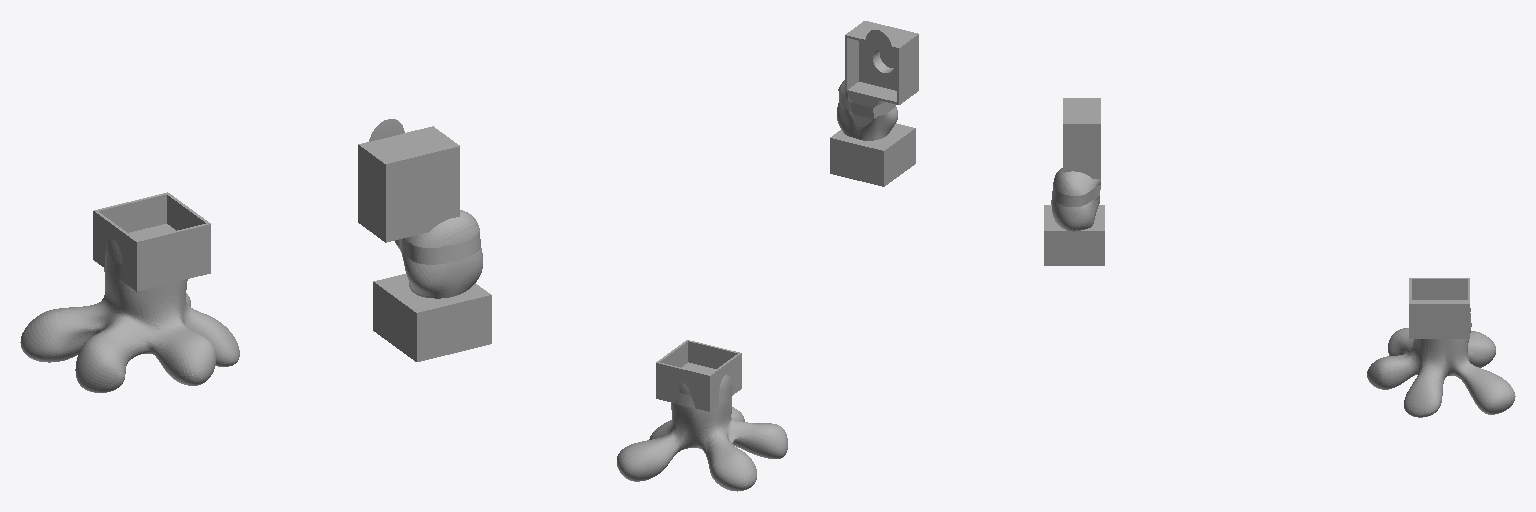
The robot description file, URDF, robot "FrogBot5_top-FrogBot5-x-2_bottom-FrogBot5-x-2":
<?xml version="1.0" ?>
<robot name="FrogBot5_top-FrogBot5-x-2_bottom-FrogBot5-x-2">

<material name="pla_5_percent_infill">
  <color rgba="0.700 0.700 0.700 1.000"/>
</material>

<link name="base_link">
  <inertial>
    <origin xyz="0 0 0" rpy="0 0 0"/>
    <mass value="1.4805118043364613"/>
    <inertia ixx="0.00519778244400068" iyy="0.011185972187213383" izz="0.012581059264896973" ixy="-0.0002102027550041139" iyz="-1.09064860282594e-05" ixz="-0.0008439426245005397"/>
  </inertial>
  <visual>
    <origin xyz="0 0 0" rpy="0 0 0"/>
    <geometry>
      <mesh filename="simple_meshes/base_link.stl" scale="0.001 0.001 0.001"/>
    </geometry>
    <material name="pla_5_percent_infill"/>
  </visual>
  <collision>
    <origin xyz="0 0 0" rpy="0 0 0"/>
    <geometry>
      <mesh filename="simple_meshes/base_link.stl" scale="0.001 0.001 0.001"/>
    </geometry>
  </collision>
</link>

<link name="body_1_0_1">
  <inertial>
    <origin xyz="-0.05492 -0.106321 -0.011198" rpy="0 0 0"/>
    <mass value="0.03190893016003801"/>
    <inertia ixx="2.4429898942020614e-05" iyy="2.7275982920612618e-05" izz="1.1434922102886071e-05" ixy="-8.511222338172071e-08" iyz="-1.420432485083929e-06" ixz="-8.68195859637681e-07"/>
  </inertial>
  <visual>
    <origin xyz="-0.05492 -0.106321 -0.011198" rpy="0 0 0"/>
    <geometry>
      <mesh filename="simple_meshes/body_1_0_1.stl" scale="0.001 0.001 0.001"/>
    </geometry>
    <material name="pla_5_percent_infill"/>
  </visual>
  <collision>
    <origin xyz="-0.05492 -0.106321 -0.011198" rpy="0 0 0"/>
    <geometry>
      <mesh filename="simple_meshes/body_1_0_1.stl" scale="0.001 0.001 0.001"/>
    </geometry>
  </collision>
</link>

<link name="body_1_1_1">
  <inertial>
    <origin xyz="0.058377 -0.106321 -0.025493" rpy="0 0 0"/>
    <mass value="0.052491266005535574"/>
    <inertia ixx="4.8257280305906425e-05" iyy="6.954699838675188e-05" izz="3.656339945115128e-05" ixy="-1.7908794482598706e-06" iyz="-7.955847608754994e-07" ixz="-2.2356305458316844e-05"/>
  </inertial>
  <visual>
    <origin xyz="0.058377 -0.106321 -0.025493" rpy="0 0 0"/>
    <geometry>
      <mesh filename="simple_meshes/body_1_1_1.stl" scale="0.001 0.001 0.001"/>
    </geometry>
    <material name="pla_5_percent_infill"/>
  </visual>
  <collision>
    <origin xyz="0.058377 -0.106321 -0.025493" rpy="0 0 0"/>
    <geometry>
      <mesh filename="simple_meshes/body_1_1_1.stl" scale="0.001 0.001 0.001"/>
    </geometry>
  </collision>
</link>

<link name="body_1_2_1">
  <inertial>
    <origin xyz="-0.053934 0.106321 -0.032331" rpy="0 0 0"/>
    <mass value="0.04528282570788592"/>
    <inertia ixx="4.6550121856413e-05" iyy="5.193071462967827e-05" izz="1.6522551288097355e-05" ixy="8.270233758516125e-08" iyz="-1.1493234214251516e-08" ixz="6.384866717018934e-06"/>
  </inertial>
  <visual>
    <origin xyz="-0.053934 0.106321 -0.032331" rpy="0 0 0"/>
    <geometry>
      <mesh filename="simple_meshes/body_1_2_1.stl" scale="0.001 0.001 0.001"/>
    </geometry>
    <material name="pla_5_percent_infill"/>
  </visual>
  <collision>
    <origin xyz="-0.053934 0.106321 -0.032331" rpy="0 0 0"/>
    <geometry>
      <mesh filename="simple_meshes/body_1_2_1.stl" scale="0.001 0.001 0.001"/>
    </geometry>
  </collision>
</link>

<link name="body_1_3_1">
  <inertial>
    <origin xyz="0.057483 0.106321 -0.032919" rpy="0 0 0"/>
    <mass value="0.05070974172626571"/>
    <inertia ixx="5.066073609378977e-05" iyy="6.7181989017562e-05" izz="2.932919879109863e-05" ixy="-6.577252664034024e-07" iyz="-1.820119408813464e-06" ixz="-1.9680371224464432e-05"/>
  </inertial>
  <visual>
    <origin xyz="0.057483 0.106321 -0.032919" rpy="0 0 0"/>
    <geometry>
      <mesh filename="simple_meshes/body_1_3_1.stl" scale="0.001 0.001 0.001"/>
    </geometry>
    <material name="pla_5_percent_infill"/>
  </visual>
  <collision>
    <origin xyz="0.057483 0.106321 -0.032919" rpy="0 0 0"/>
    <geometry>
      <mesh filename="simple_meshes/body_1_3_1.stl" scale="0.001 0.001 0.001"/>
    </geometry>
  </collision>
</link>

<link name="body_2_0_1">
  <inertial>
    <origin xyz="-0.051784 -0.143449 0.080454" rpy="0 0 0"/>
    <mass value="0.07760875051303201"/>
    <inertia ixx="7.662273675442194e-05" iyy="8.393004935969761e-05" izz="9.35027023761211e-05" ixy="-4.54805802130049e-06" iyz="3.7950665444104036e-06" ixz="-1.307774025447665e-06"/>
  </inertial>
  <visual>
    <origin xyz="-0.051784 -0.143449 0.080454" rpy="0 0 0"/>
    <geometry>
      <mesh filename="simple_meshes/body_2_0_1.stl" scale="0.001 0.001 0.001"/>
    </geometry>
    <material name="pla_5_percent_infill"/>
  </visual>
  <collision>
    <origin xyz="-0.051784 -0.143449 0.080454" rpy="0 0 0"/>
    <geometry>
      <mesh filename="simple_meshes/body_2_0_1.stl" scale="0.001 0.001 0.001"/>
    </geometry>
  </collision>
</link>

<link name="body_2_1_1">
  <inertial>
    <origin xyz="0.108798 -0.147527 0.080454" rpy="0 0 0"/>
    <mass value="0.08927521415235605"/>
    <inertia ixx="5.059492834724342e-05" iyy="7.031797062725205e-05" izz="7.02220438275284e-05" ixy="-2.0383774248376903e-06" iyz="-3.0294926272461664e-09" ixz="-1.4148800505534107e-06"/>
  </inertial>
  <visual>
    <origin xyz="0.108798 -0.147527 0.080454" rpy="0 0 0"/>
    <geometry>
      <mesh filename="simple_meshes/body_2_1_1.stl" scale="0.001 0.001 0.001"/>
    </geometry>
    <material name="pla_5_percent_infill"/>
  </visual>
  <collision>
    <origin xyz="0.108798 -0.147527 0.080454" rpy="0 0 0"/>
    <geometry>
      <mesh filename="simple_meshes/body_2_1_1.stl" scale="0.001 0.001 0.001"/>
    </geometry>
  </collision>
</link>

<link name="body_2_2_1">
  <inertial>
    <origin xyz="-0.065031 0.147225 0.080454" rpy="0 0 0"/>
    <mass value="0.07657926924251547"/>
    <inertia ixx="7.528644161000023e-05" iyy="7.35970162488277e-05" izz="8.594488308659226e-05" ixy="6.021758922198999e-06" iyz="-2.343747949047235e-06" ixz="-3.689037848296408e-06"/>
  </inertial>
  <visual>
    <origin xyz="-0.065031 0.147225 0.080454" rpy="0 0 0"/>
    <geometry>
      <mesh filename="simple_meshes/body_2_2_1.stl" scale="0.001 0.001 0.001"/>
    </geometry>
    <material name="pla_5_percent_infill"/>
  </visual>
  <collision>
    <origin xyz="-0.065031 0.147225 0.080454" rpy="0 0 0"/>
    <geometry>
      <mesh filename="simple_meshes/body_2_2_1.stl" scale="0.001 0.001 0.001"/>
    </geometry>
  </collision>
</link>

<link name="body_2_3_1">
  <inertial>
    <origin xyz="0.101339 0.151086 0.080454" rpy="0 0 0"/>
    <mass value="0.10061755237812887"/>
    <inertia ixx="6.449725713528372e-05" iyy="9.468606929102395e-05" izz="8.360080327839354e-05" ixy="7.214355447653694e-07" iyz="-2.9852871009129756e-06" ixz="4.464565758604926e-06"/>
  </inertial>
  <visual>
    <origin xyz="0.101339 0.151086 0.080454" rpy="0 0 0"/>
    <geometry>
      <mesh filename="simple_meshes/body_2_3_1.stl" scale="0.001 0.001 0.001"/>
    </geometry>
    <material name="pla_5_percent_infill"/>
  </visual>
  <collision>
    <origin xyz="0.101339 0.151086 0.080454" rpy="0 0 0"/>
    <geometry>
      <mesh filename="simple_meshes/body_2_3_1.stl" scale="0.001 0.001 0.001"/>
    </geometry>
  </collision>
</link>

<joint name="joint_1_0" type="revolute">
  <origin xyz="0.05492 0.106321 0.011198" rpy="0 0 0"/>
  <parent link="base_link"/>
  <child link="body_1_0_1"/>
  <axis xyz="1.0 0.0 0.0"/>
  <limit upper="1.2" lower="-1.2" effort="3.8" velocity="5.4"/>
</joint>
<transmission name="joint_1_0_tran">
  <type>transmission_interface/SimpleTransmission</type>
  <joint name="joint_1_0">
    <hardwareInterface>PositionJointInterface</hardwareInterface>
  </joint>
  <actuator name="joint_1_0_actr">
    <hardwareInterface>PositionJointInterface</hardwareInterface>
    <mechanicalReduction>1</mechanicalReduction>
  </actuator>
</transmission>

<joint name="joint_1_1" type="revolute">
  <origin xyz="-0.058377 0.106321 0.025493" rpy="0 0 0"/>
  <parent link="base_link"/>
  <child link="body_1_1_1"/>
  <axis xyz="1.0 0.0 0.0"/>
  <limit upper="1.2" lower="-1.2" effort="3.8" velocity="5.4"/>
</joint>
<transmission name="joint_1_1_tran">
  <type>transmission_interface/SimpleTransmission</type>
  <joint name="joint_1_1">
    <hardwareInterface>PositionJointInterface</hardwareInterface>
  </joint>
  <actuator name="joint_1_1_actr">
    <hardwareInterface>PositionJointInterface</hardwareInterface>
    <mechanicalReduction>1</mechanicalReduction>
  </actuator>
</transmission>

<joint name="joint_1_2" type="revolute">
  <origin xyz="0.053934 -0.106321 0.032331" rpy="0 0 0"/>
  <parent link="base_link"/>
  <child link="body_1_2_1"/>
  <axis xyz="1.0 0.0 0.0"/>
  <limit upper="1.2" lower="-1.2" effort="3.8" velocity="5.4"/>
</joint>
<transmission name="joint_1_2_tran">
  <type>transmission_interface/SimpleTransmission</type>
  <joint name="joint_1_2">
    <hardwareInterface>PositionJointInterface</hardwareInterface>
  </joint>
  <actuator name="joint_1_2_actr">
    <hardwareInterface>PositionJointInterface</hardwareInterface>
    <mechanicalReduction>1</mechanicalReduction>
  </actuator>
</transmission>

<joint name="joint_1_3" type="revolute">
  <origin xyz="-0.057483 -0.106321 0.032919" rpy="0 0 0"/>
  <parent link="base_link"/>
  <child link="body_1_3_1"/>
  <axis xyz="1.0 0.0 0.0"/>
  <limit upper="1.2" lower="-1.2" effort="3.8" velocity="5.4"/>
</joint>
<transmission name="joint_1_3_tran">
  <type>transmission_interface/SimpleTransmission</type>
  <joint name="joint_1_3">
    <hardwareInterface>PositionJointInterface</hardwareInterface>
  </joint>
  <actuator name="joint_1_3_actr">
    <hardwareInterface>PositionJointInterface</hardwareInterface>
    <mechanicalReduction>1</mechanicalReduction>
  </actuator>
</transmission>

<joint name="joint_2_0" type="revolute">
  <origin xyz="-0.003136 0.037128 -0.091652" rpy="0 0 0"/>
  <parent link="body_1_0_1"/>
  <child link="body_2_0_1"/>
  <axis xyz="1.0 0.0 0.0"/>
  <limit upper="1.2" lower="-1.2" effort="3.8" velocity="5.4"/>
</joint>
<transmission name="joint_2_0_tran">
  <type>transmission_interface/SimpleTransmission</type>
  <joint name="joint_2_0">
    <hardwareInterface>PositionJointInterface</hardwareInterface>
  </joint>
  <actuator name="joint_2_0_actr">
    <hardwareInterface>PositionJointInterface</hardwareInterface>
    <mechanicalReduction>1</mechanicalReduction>
  </actuator>
</transmission>

<joint name="joint_2_1" type="revolute">
  <origin xyz="-0.050421 0.041206 -0.105947" rpy="0 0 0"/>
  <parent link="body_1_1_1"/>
  <child link="body_2_1_1"/>
  <axis xyz="1.0 0.0 0.0"/>
  <limit upper="1.2" lower="-1.2" effort="3.8" velocity="5.4"/>
</joint>
<transmission name="joint_2_1_tran">
  <type>transmission_interface/SimpleTransmission</type>
  <joint name="joint_2_1">
    <hardwareInterface>PositionJointInterface</hardwareInterface>
  </joint>
  <actuator name="joint_2_1_actr">
    <hardwareInterface>PositionJointInterface</hardwareInterface>
    <mechanicalReduction>1</mechanicalReduction>
  </actuator>
</transmission>

<joint name="joint_2_2" type="revolute">
  <origin xyz="0.011097 -0.040904 -0.112785" rpy="0 0 0"/>
  <parent link="body_1_2_1"/>
  <child link="body_2_2_1"/>
  <axis xyz="1.0 0.0 0.0"/>
  <limit upper="1.2" lower="-1.2" effort="3.8" velocity="5.4"/>
</joint>
<transmission name="joint_2_2_tran">
  <type>transmission_interface/SimpleTransmission</type>
  <joint name="joint_2_2">
    <hardwareInterface>PositionJointInterface</hardwareInterface>
  </joint>
  <actuator name="joint_2_2_actr">
    <hardwareInterface>PositionJointInterface</hardwareInterface>
    <mechanicalReduction>1</mechanicalReduction>
  </actuator>
</transmission>

<joint name="joint_2_3" type="revolute">
  <origin xyz="-0.043856 -0.044765 -0.113373" rpy="0 0 0"/>
  <parent link="body_1_3_1"/>
  <child link="body_2_3_1"/>
  <axis xyz="1.0 0.0 0.0"/>
  <limit upper="1.2" lower="-1.2" effort="3.8" velocity="5.4"/>
</joint>
<transmission name="joint_2_3_tran">
  <type>transmission_interface/SimpleTransmission</type>
  <joint name="joint_2_3">
    <hardwareInterface>PositionJointInterface</hardwareInterface>
  </joint>
  <actuator name="joint_2_3_actr">
    <hardwareInterface>PositionJointInterface</hardwareInterface>
    <mechanicalReduction>1</mechanicalReduction>
  </actuator>
</transmission>

</robot>

--- Facts derived from the render (not from the file) ---
The picture shows the robot from 3 angles, left to right: view 1: azimuth 30°, elevation 25°; view 2: azimuth 150°, elevation 25°; view 3: azimuth 270°, elevation 25°; orthographic projection.
Robot: FrogBot5_top-FrogBot5-x-2_bottom-FrogBot5-x-2 — 9 links, 8 joints (8 revolute); root link base_link; default pose: all joints at 0.
Visible links, largest first — view 1: body_2_0_1, body_1_2_1; view 2: body_2_0_1, body_1_2_1; view 3: body_2_0_1, body_1_2_1.
Link boxes in pixels (x1,y1,x2,y2): body_2_0_1: (20, 192, 239, 392); body_1_2_1: (358, 119, 491, 361); body_2_0_1: (617, 340, 787, 491); body_1_2_1: (830, 21, 918, 186); body_2_0_1: (1367, 278, 1515, 417); body_1_2_1: (1044, 98, 1104, 265).
Size in the robot's own frame: 0.1138 by 0.3753 by 0.2626 metres.
2 mesh visuals loaded from 9 distinct referenced files (2 binary STL); not drawn: 7 (reference not matched to a file when rendering).